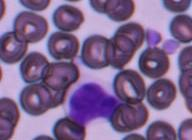M: (63, 75, 124, 127)
